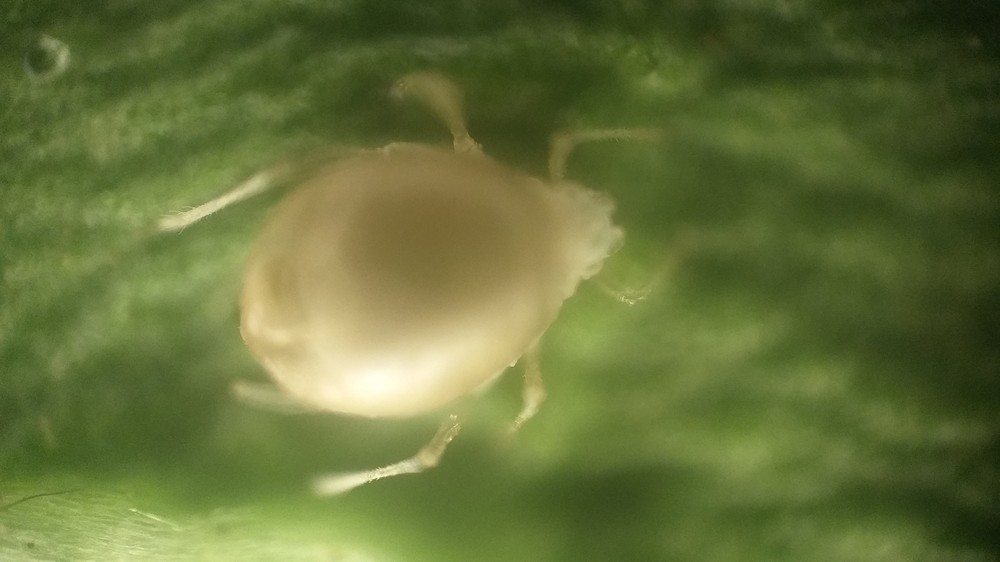Pulgon: (166, 69, 691, 511)
